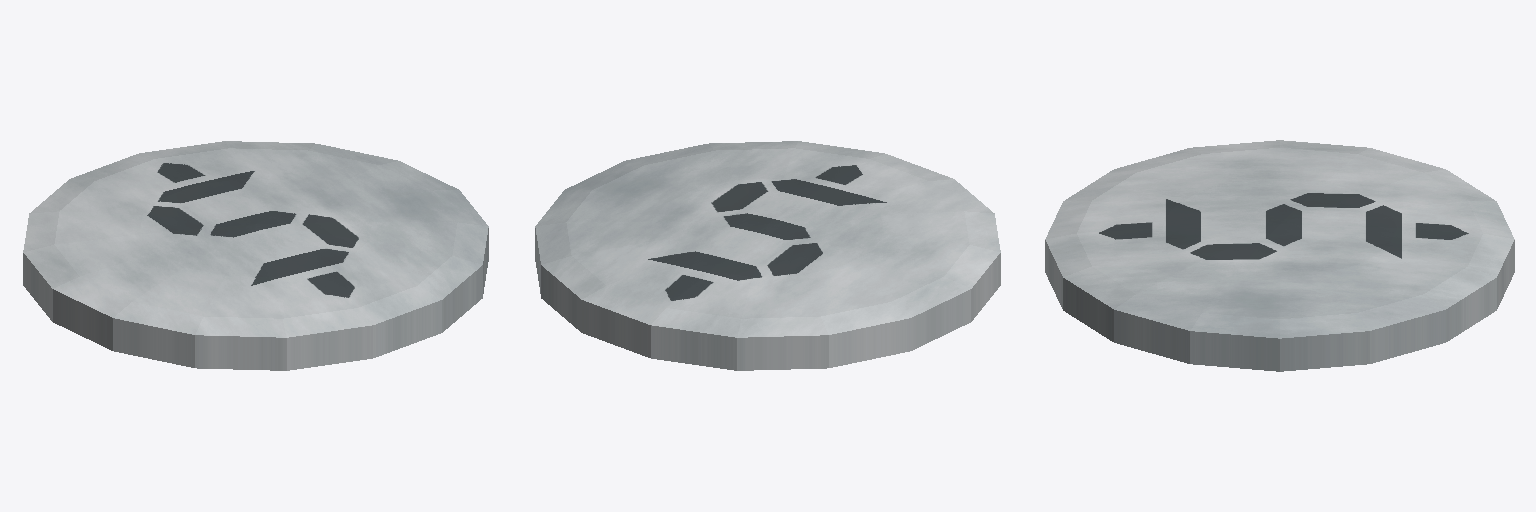
The picture shows the model from 3 angles: view 1: azimuth 30°, elevation 25°; view 2: azimuth 150°, elevation 25°; view 3: azimuth 270°, elevation 25°; orthographic projection.
Visible parts, largest first — view 1: pCylinder1; view 2: pCylinder1; view 3: pCylinder1.
Boxes of the visible parts, box(x1,y1,x2,y2) form: pCylinder1: box(23, 141, 488, 370); pCylinder1: box(535, 141, 1000, 370); pCylinder1: box(1045, 140, 1514, 371).
Size of the model in its own units: 6 by 0.903 by 6.
1 materials, 1 textured.